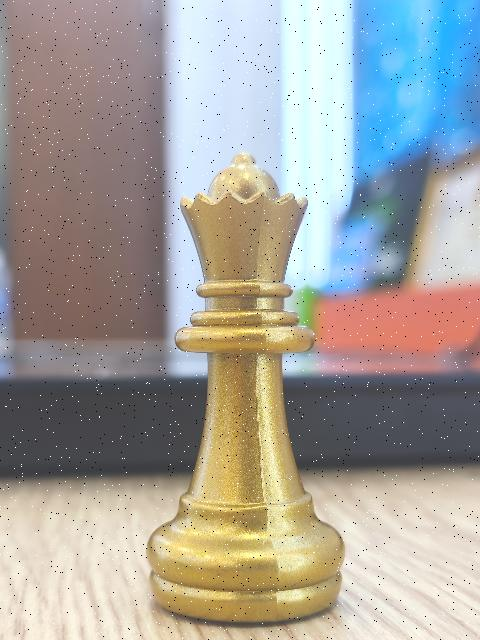black_queen: (145, 150, 344, 629)
